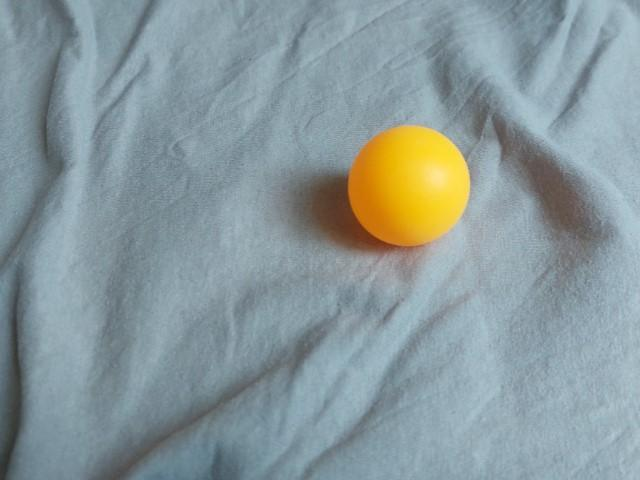oball: (337, 120, 479, 255)
